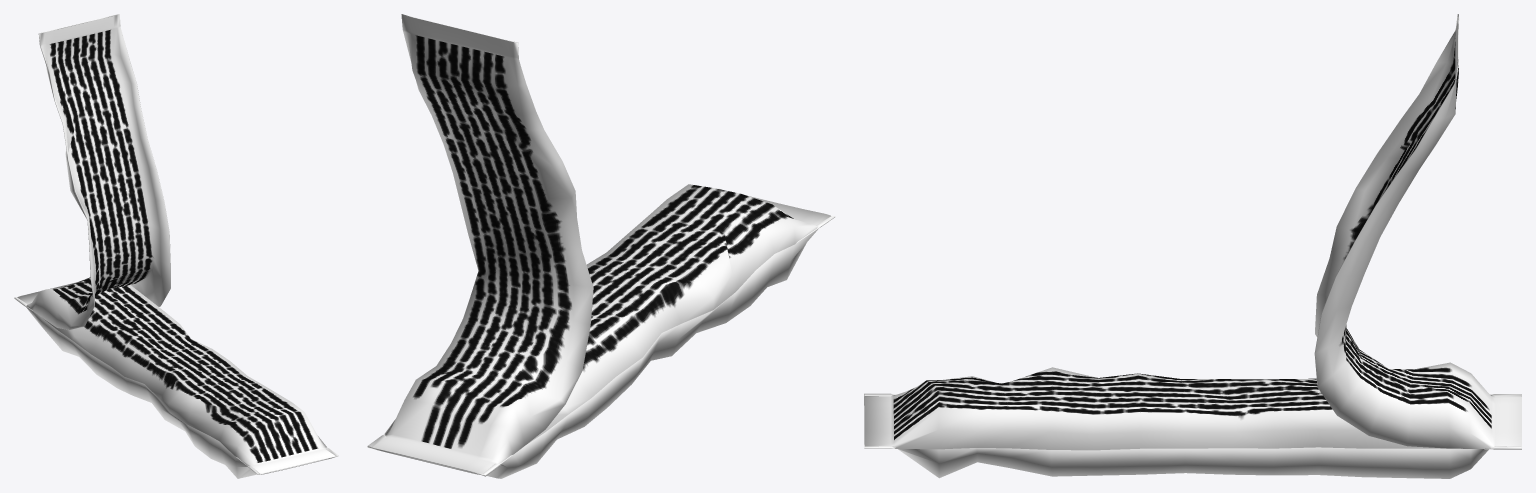
Rendered from OmniflushSyringeBag.fbx.
3 views of the same model, side by side, from view 1: azimuth 30°, elevation 25°; view 2: azimuth 150°, elevation 25°; view 3: azimuth 270°, elevation 25° (orthographic). The views are drawn at different scales.
Parts seen in each view (by area): view 1: omni_unfolded, OmniBag, Omni_bottom; view 2: omni_unfolded, OmniBag, Omni_bottom; view 3: OmniBag, omni_unfolded, Omni_bottom.
Boxes of the visible parts, x1,y1,x2,y2 form: omni_unfolded: [14, 14, 170, 329]; OmniBag: [43, 285, 336, 474]; Omni_bottom: [14, 297, 338, 478]; omni_unfolded: [367, 14, 593, 476]; OmniBag: [525, 184, 830, 445]; Omni_bottom: [367, 189, 835, 478]; OmniBag: [864, 367, 1462, 450]; omni_unfolded: [1314, 14, 1521, 449]; Omni_bottom: [864, 393, 1521, 478].
Size of the model in its own units: 0.0394 by 0.1361 by 0.1935.
